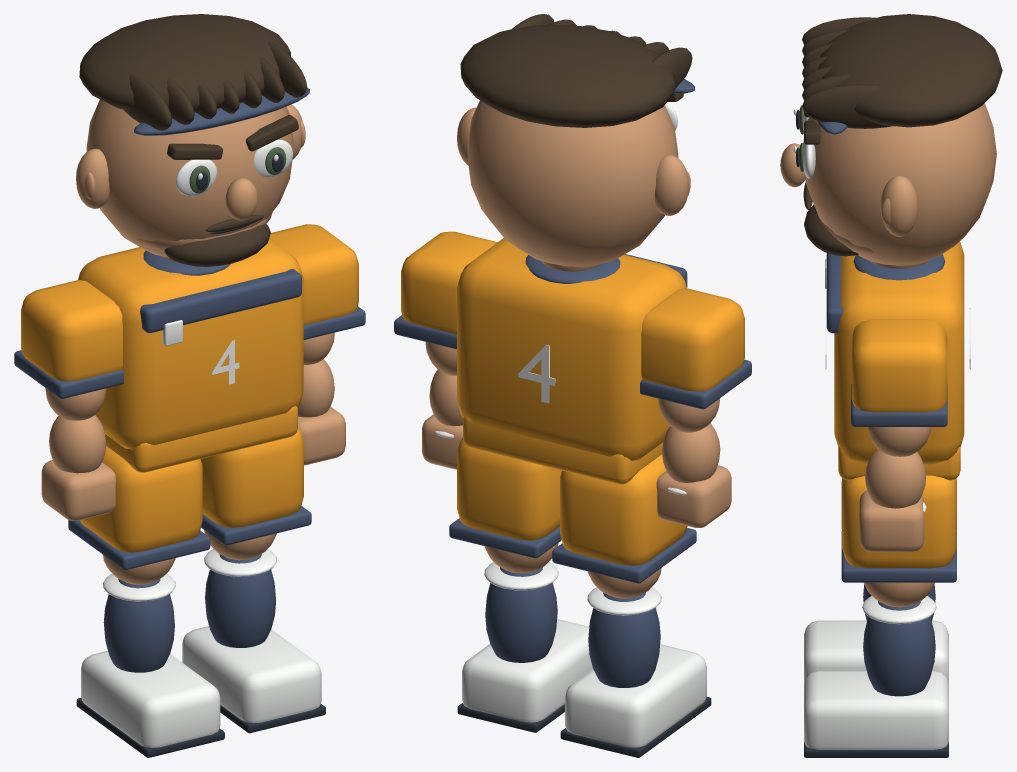
The model's file is Bora.fbx.
The picture shows the model from 3 angles, left to right: view 1: azimuth 30°, elevation 25°; view 2: azimuth 150°, elevation 25°; view 3: azimuth 270°, elevation 25°; orthographic projection.
Parts seen in each view (by area): view 1: Torso, Head, HairCap, Boot_Left, Boot_Right, Sleeve_Left, Shorts_Left, Shorts_Right, Sleeve_Right, Sock_Left, Sock_Right, Waist (+31 smaller); view 2: Torso, Head, HairCap, Shorts_Left, Sleeve_Left, Boot_Left, Shorts_Right, Boot_Right, Sleeve_Right, Sock_Right, Sock_Left, Waist (+20 smaller); view 3: Head, HairCap, Torso, Boot_Right, Sleeve_Right, Shorts_Right, Sock_Right, Boot_Left, Hand_Right, Forearm_Right, CropRidge.006, ShortHem_Right (+16 smaller).
Part boxes in pixels (x1,y1,x2,y2): Torso: (78,239,303,449); Head: (86,99,293,257); HairCap: (79,14,290,112); Boot_Left: (81,650,220,747); Boot_Right: (182,626,321,723); Sleeve_Left: (21,280,122,381); Shorts_Left: (80,446,202,552); Shorts_Right: (200,427,303,527); Sleeve_Right: (269,224,358,325); Sock_Left: (103,578,174,672); Sock_Right: (205,554,275,647); Waist: (105,406,297,472); Torso: (457,238,686,460); Head: (467,100,678,266); HairCap: (460,24,675,127); Shorts_Left: (560,454,687,565); Sleeve_Left: (641,288,744,391); Boot_Left: (565,644,706,747); Shorts_Right: (457,437,561,540); Boot_Right: (462,619,592,722); Sleeve_Right: (401,231,497,334); Sock_Right: (485,567,557,662); Sock_Left: (588,592,660,687); Waist: (463,416,663,484); Head: (803,103,996,265); HairCap: (818,14,1002,127); Torso: (834,241,964,464); Boot_Right: (804,670,948,749); Sleeve_Right: (851,319,947,412); Shorts_Right: (842,475,956,568); Sock_Right: (863,601,935,696); Boot_Left: (804,620,948,683); Hand_Right: (859,490,924,552); Forearm_Right: (865,448,925,508); CropRidge.006: (802,84,892,128); ShortHem_Right: (841,530,956,582).
Bounding box in the file's own units: 94 × 195 × 58.15.
